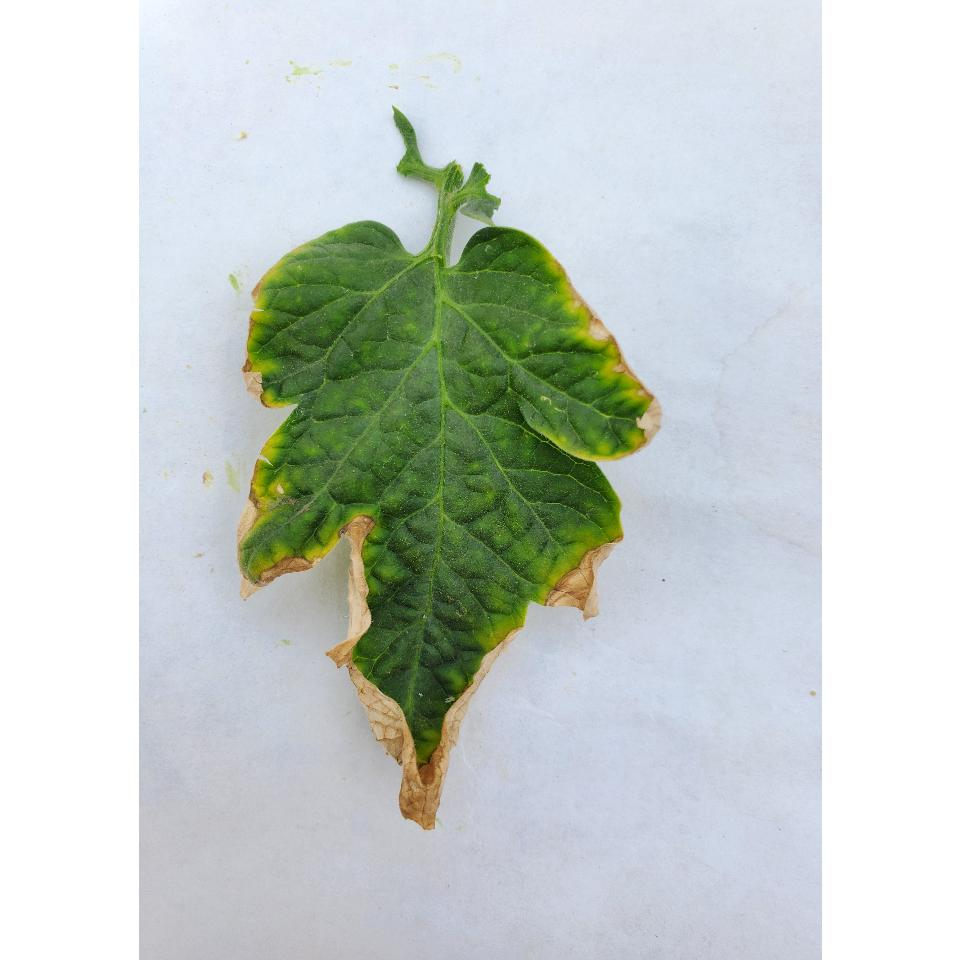tomato_bacterial_blight: (236, 255, 674, 821)
